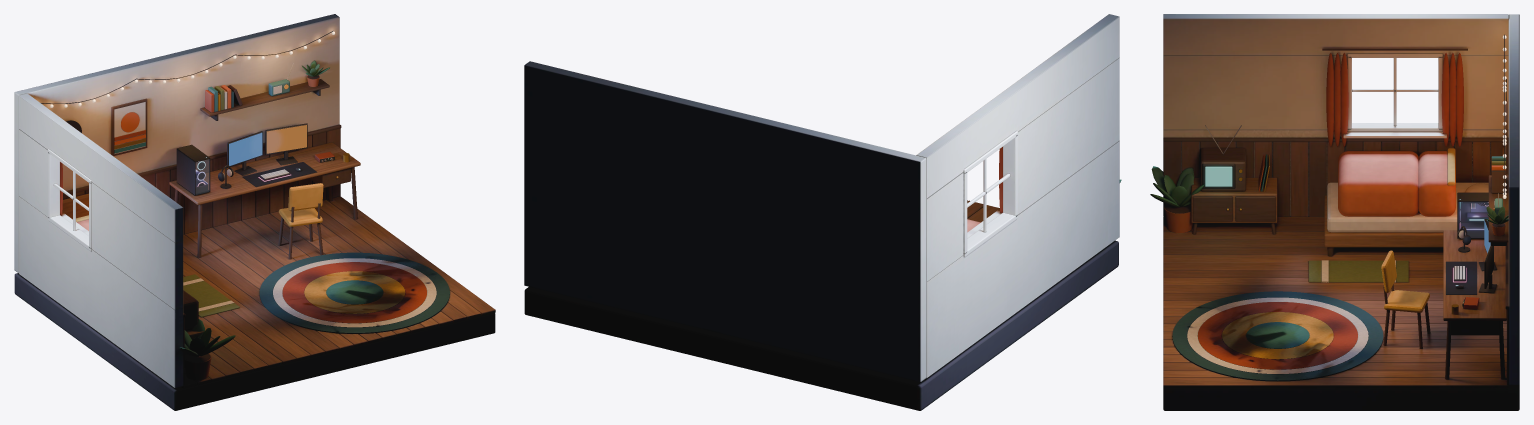
File: room.glb
The picture shows the model from 3 angles, left to right: view 1: azimuth 30°, elevation 25°; view 2: azimuth 150°, elevation 25°; view 3: azimuth 270°, elevation 25°; orthographic projection. The views are drawn at different scales.
Visible parts, largest first — view 1: Room_mesh, Rugs_mesh, Desk_mesh, WallArt_mesh, Window_mesh, Chair_mesh, Shelf_mesh, Plant_Floor_mesh, GamingPC_mesh, Monitor_Right_mesh, Monitor_Left_mesh, TV_mesh (+1 smaller); view 2: Room_mesh, Window_mesh; view 3: Room_mesh, Rugs_mesh, Bed_mesh, Window_mesh, Desk_mesh, TVCabinet_mesh, Duvet_Upper, TV_mesh, Plant_Floor_mesh, Chair_mesh, GamingPC_mesh, Shelf_mesh (+4 smaller).
Part boxes in pixels (x1,y1,x2,y2): Room_mesh: (14,14,495,410); Rugs_mesh: (183,252,449,333); Desk_mesh: (169,142,360,257); WallArt_mesh: (41,31,334,156); Window_mesh: (48,149,91,250); Chair_mesh: (278,183,323,259); Shelf_mesh: (200,79,329,120); Plant_Floor_mesh: (179,319,235,380); GamingPC_mesh: (176,144,210,195); Monitor_Right_mesh: (265,123,307,165); Monitor_Left_mesh: (227,131,262,175); TV_mesh: (183,290,198,330); Room_mesh: (524,14,1119,410); Window_mesh: (963,131,1017,256); Room_mesh: (1163,14,1519,410); Rugs_mesh: (1172,260,1408,381); Bed_mesh: (1324,147,1504,256); Window_mesh: (1322,48,1467,146); Desk_mesh: (1443,230,1506,379); TVCabinet_mesh: (1191,154,1277,234); Duvet_Upper: (1418,148,1455,216); TV_mesh: (1200,125,1245,191); Plant_Floor_mesh: (1150,166,1212,232); Chair_mesh: (1381,250,1430,348); GamingPC_mesh: (1457,192,1488,239); Shelf_mesh: (1488,156,1508,245).
Bounding box in the file's own units: 4.53 × 2.72 × 4.06.
Materials: 3 (2 with a texture image).
